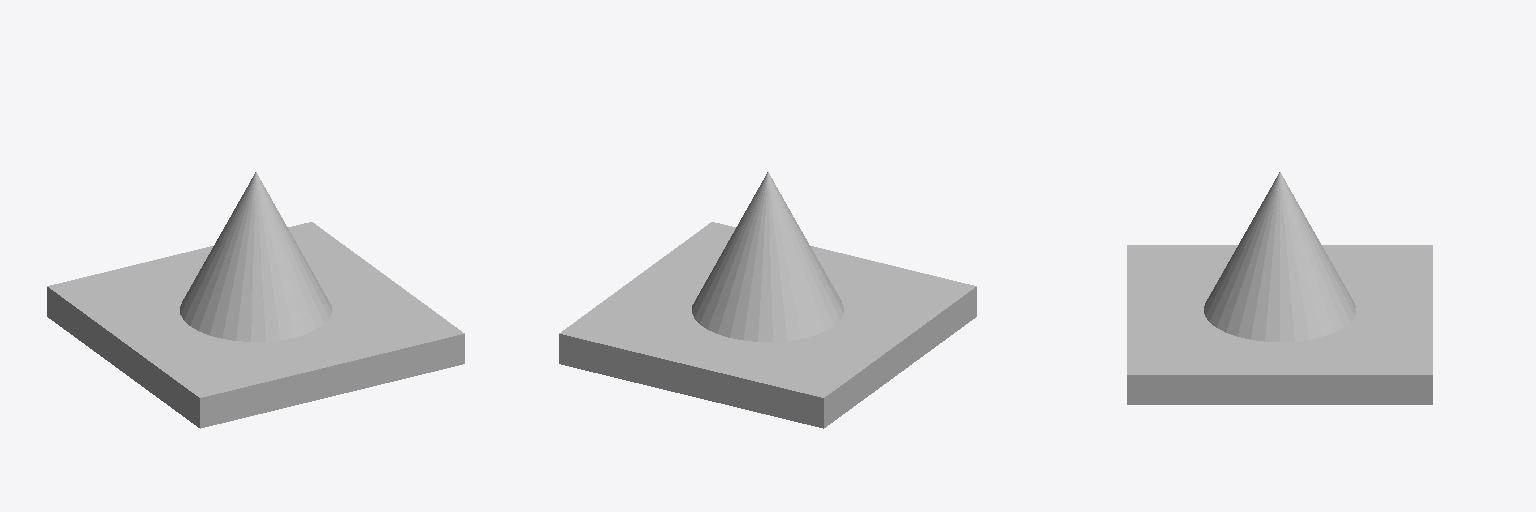
The model's file is Stachel.obj.
3 views of the same model, side by side, from view 1: azimuth 30°, elevation 25°; view 2: azimuth 150°, elevation 25°; view 3: azimuth 270°, elevation 25° (orthographic).
Size of the model in its own units: 2 by 1.22 by 2.